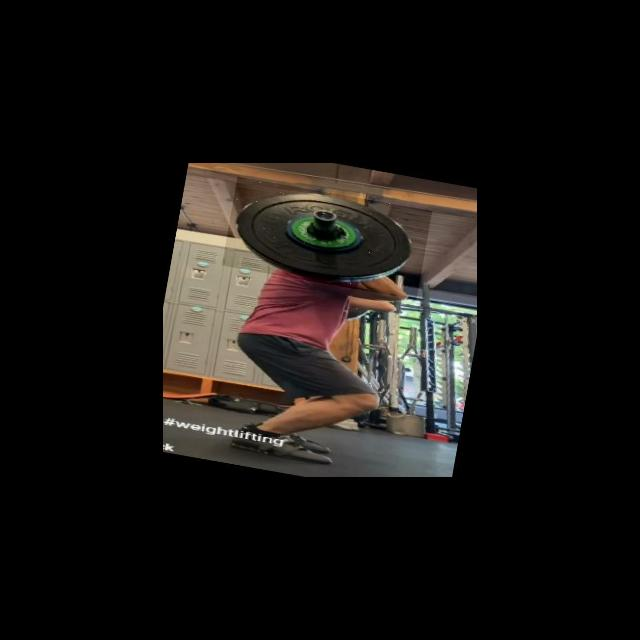barbell: (221, 177, 432, 300)
